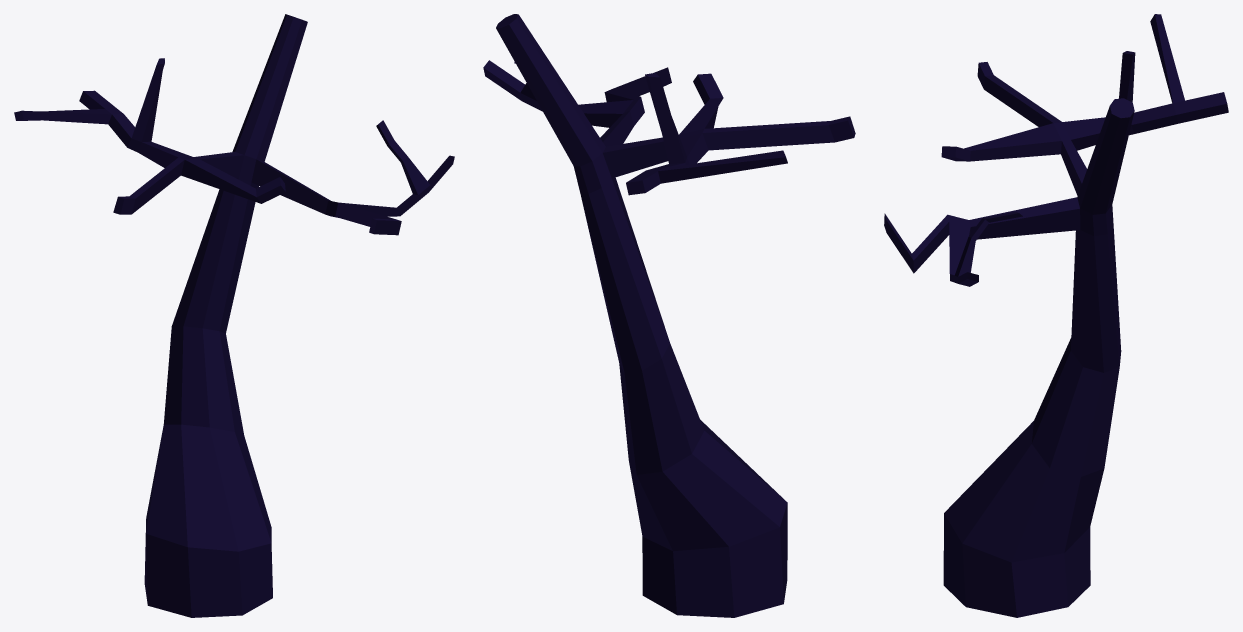
The model's file is deadtree_01.glb.
3 renders of one model, left to right at view 1: azimuth 30°, elevation 25°; view 2: azimuth 150°, elevation 25°; view 3: azimuth 270°, elevation 25°, orthographic. The views are drawn at different scales.
Parts seen in each view (by area): view 1: Cube; view 2: Cube; view 3: Cube.
Part boxes in pixels (x1,y1,x2,y2): Cube: (14,14,454,617); Cube: (483,14,855,617); Cube: (884,14,1228,617).
Bounding box in the file's own units: 2.85 × 3.94 × 2.22.
